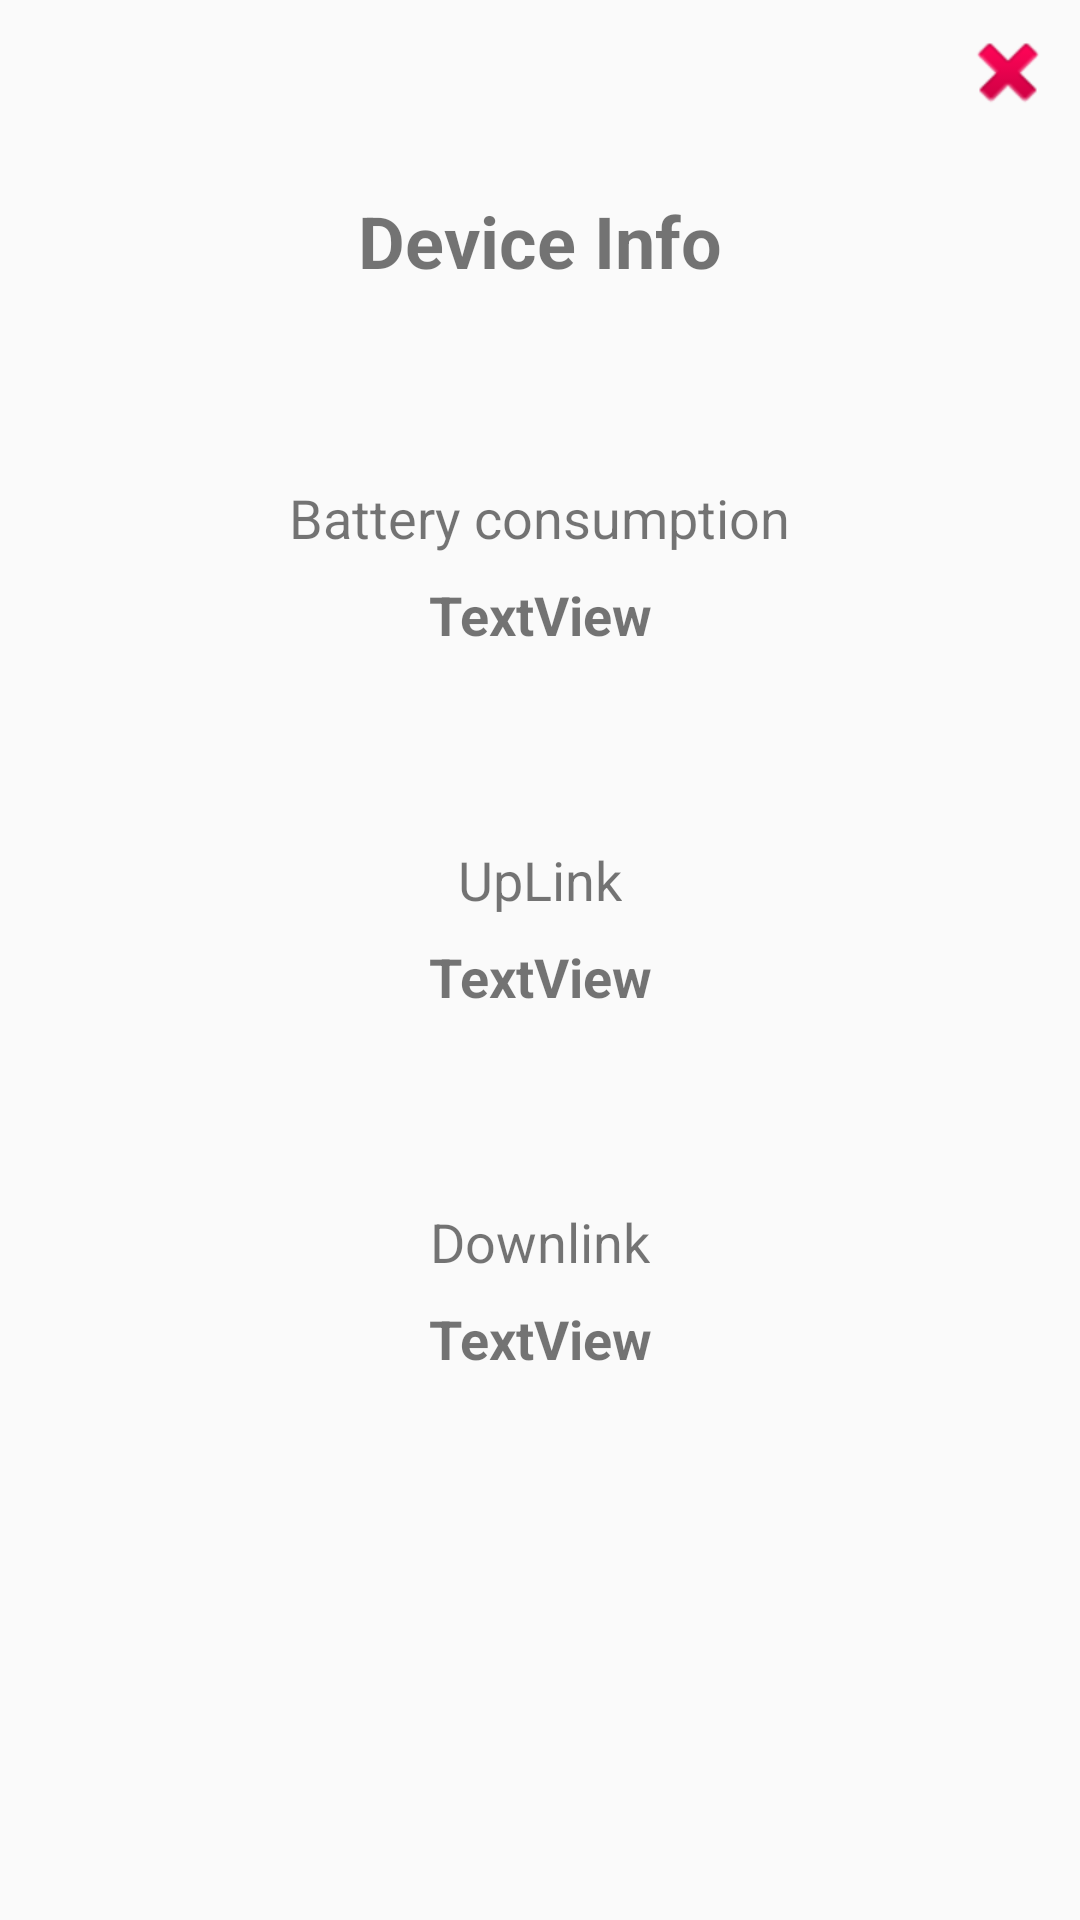

Named icons in this screenshot (1080px×1920px) and their bounding boxes, region(x1, y1, x2, y2):
delete: region(977, 43, 1039, 102)
